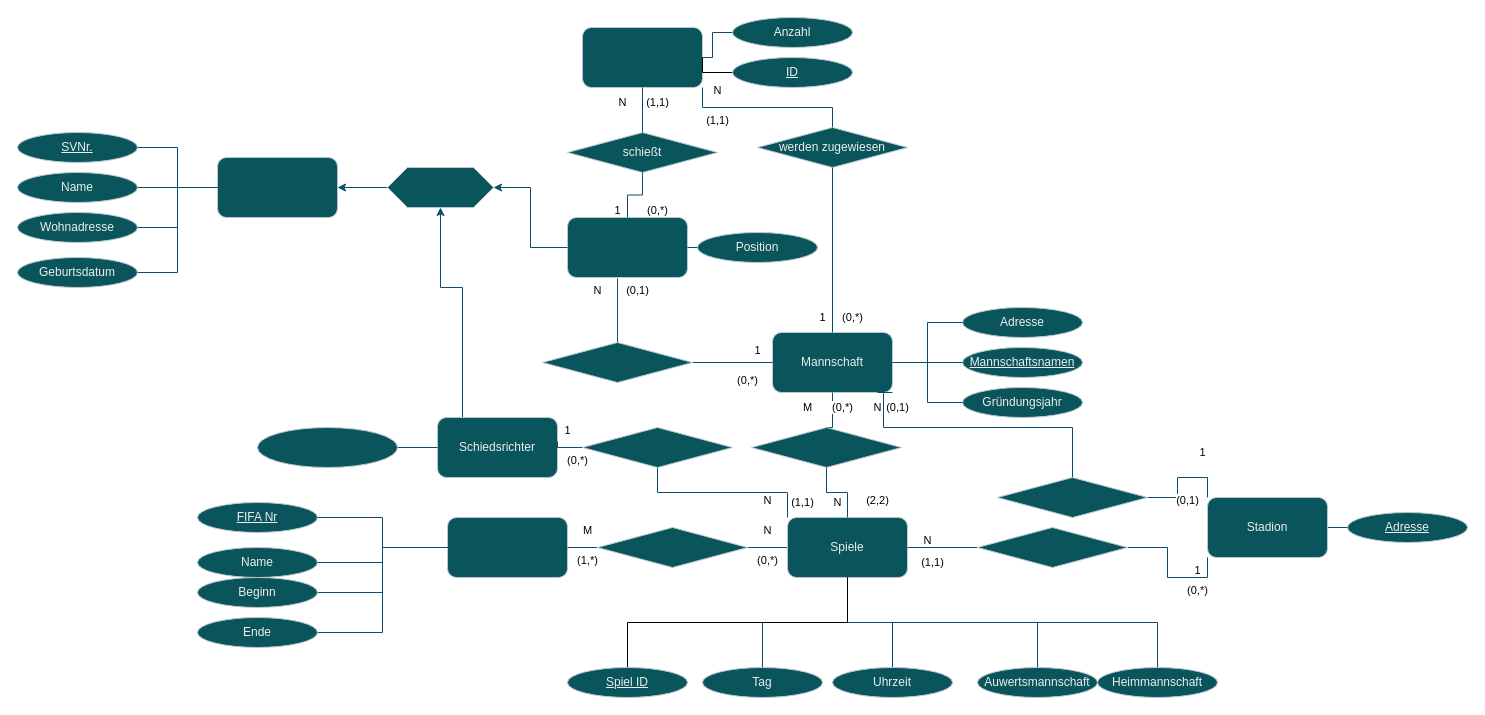
This 1485x715 diagram has some shape labels left out. The centre of each missing label's shape, as x and y in pixels:
"bestehen aus" goes at [672,547].
"bestreitet" goes at [826,447].
"bilden" goes at [617,362].
"Datum Schiedsrichterprüfung" goes at [327,447].
"gehört zu" goes at [1072,497].
"ist" goes at [440,187].
"Personen" goes at [277,187].
"pfeifen" goes at [657,447].
"Spieler" goes at [627,247].
"Tore" goes at [642,57].
"Turnier" goes at [507,547].
"werden ausgetragen in" goes at [1052,547].
